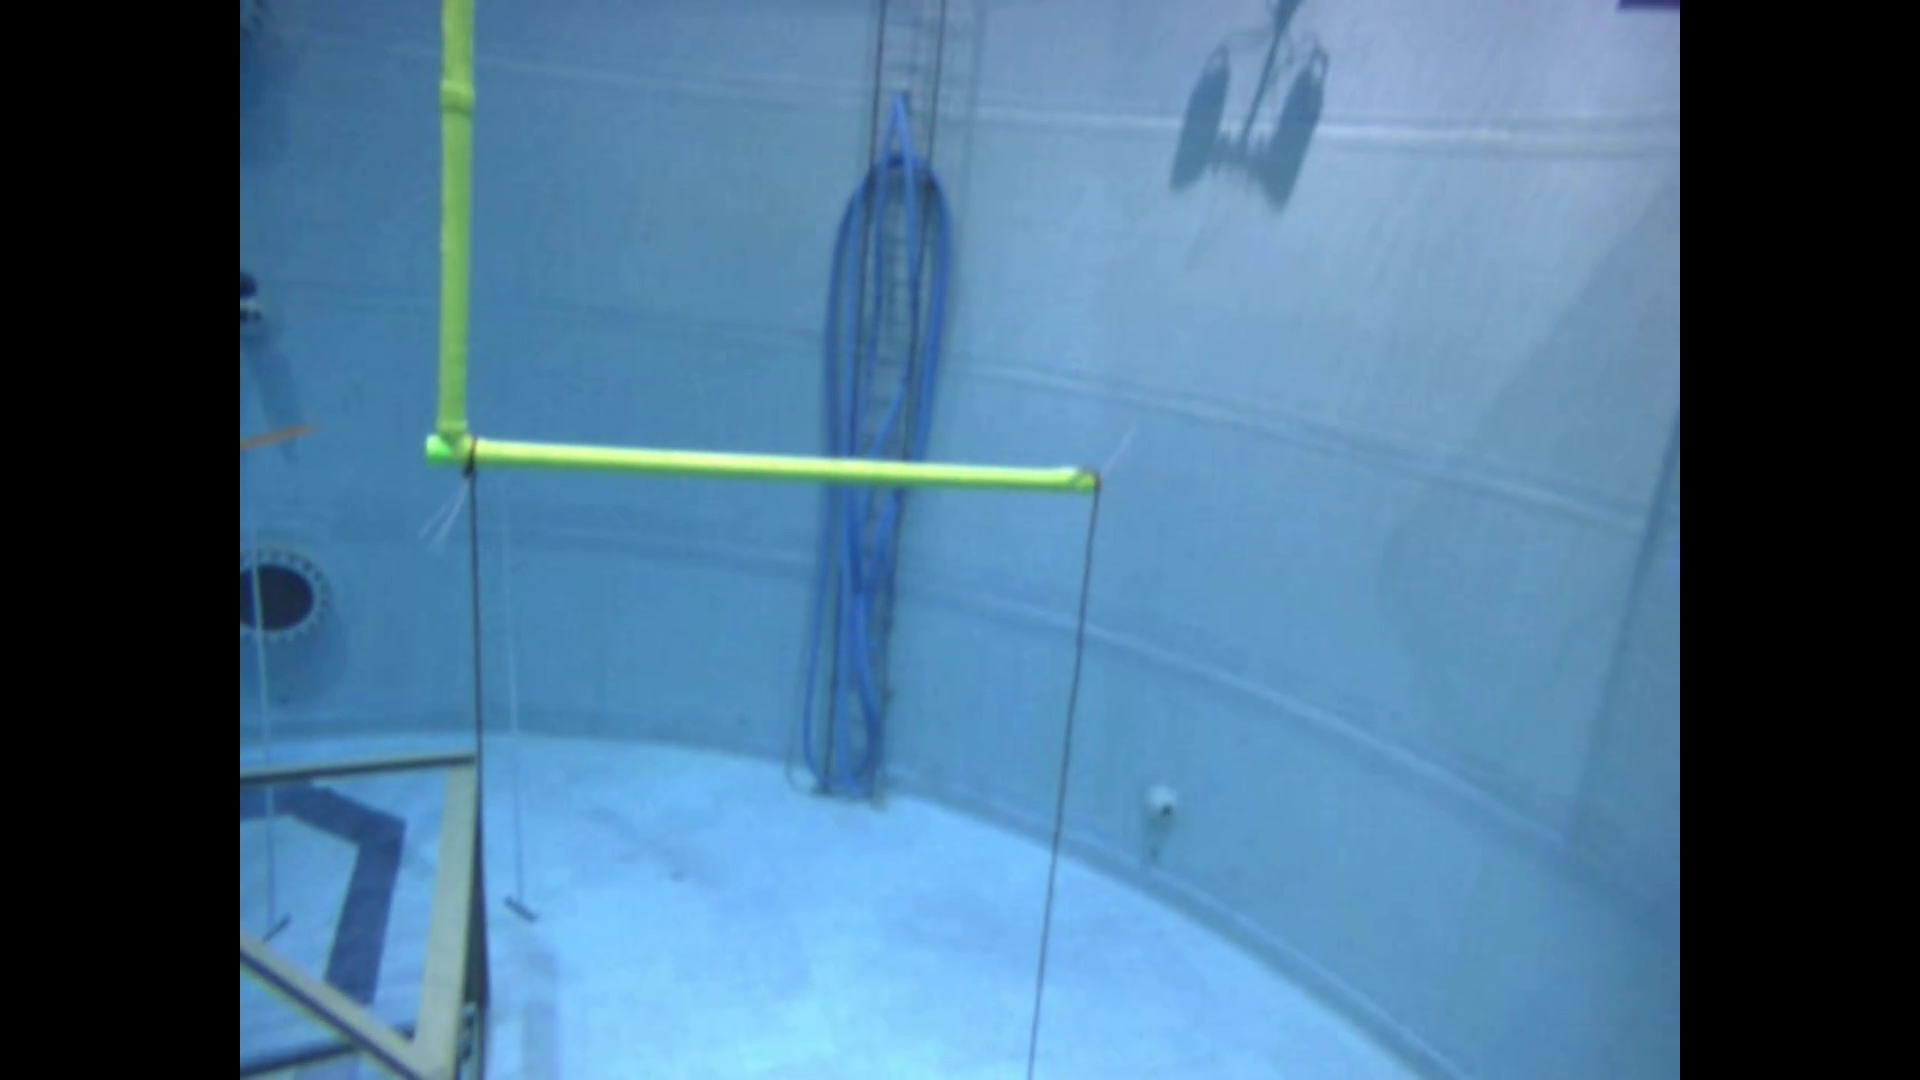gate: (426, 1, 1106, 505)
